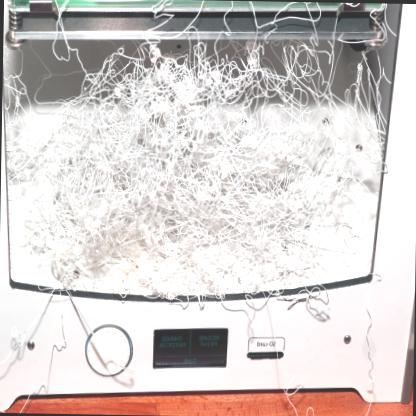fail: (28, 34, 388, 286)
